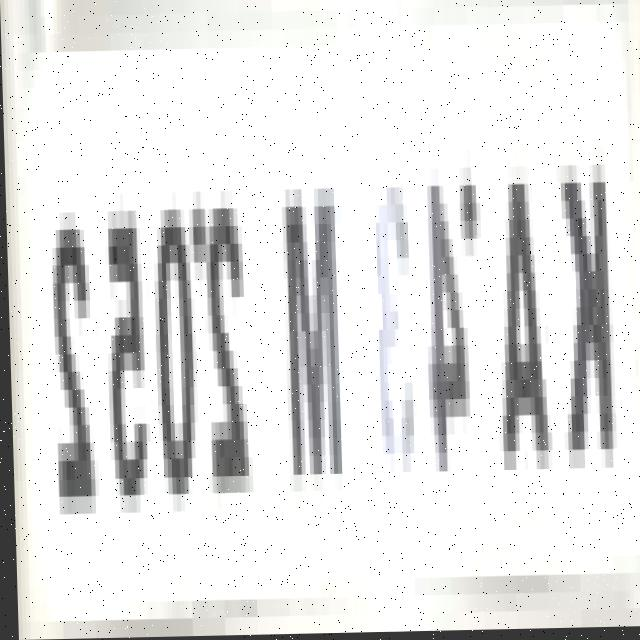plate: (12, 10, 640, 637)
